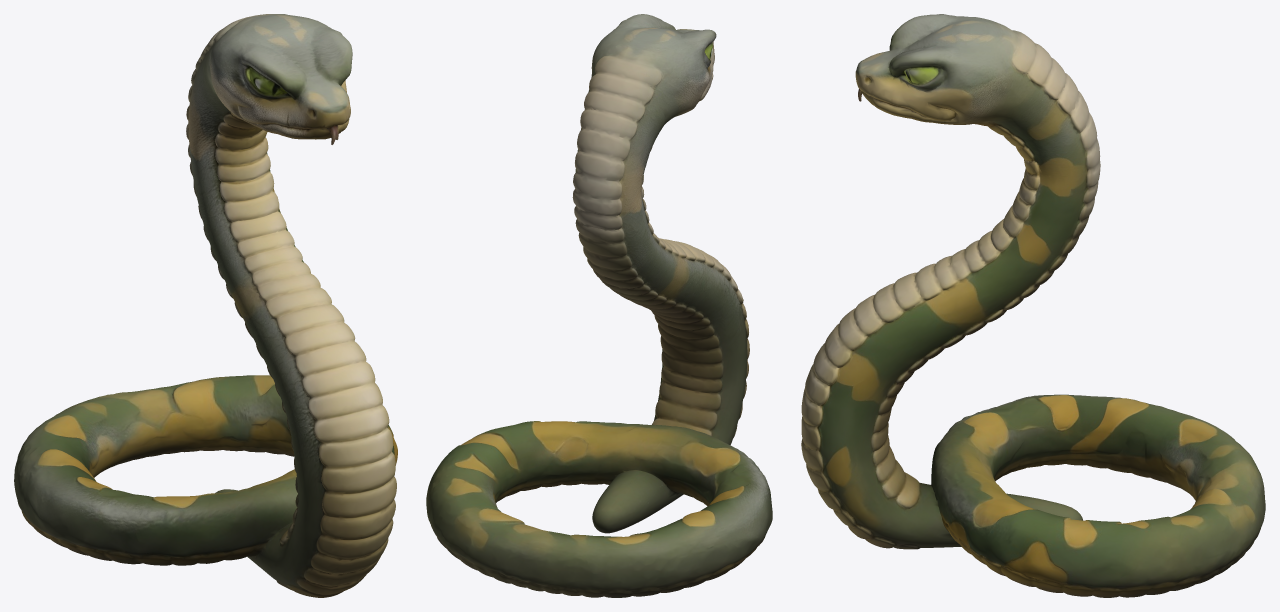
File: ular_melar.glb
3 renders of one model, left to right at view 1: azimuth 30°, elevation 25°; view 2: azimuth 150°, elevation 25°; view 3: azimuth 270°, elevation 25°, orthographic. The views are drawn at different scales.
Parts seen in each view (by area): view 1: tripo_node_fd1cbbf4-af72-4767-ad30-711315003b75; view 2: tripo_node_fd1cbbf4-af72-4767-ad30-711315003b75; view 3: tripo_node_fd1cbbf4-af72-4767-ad30-711315003b75.
Part boxes in pixels (box(x1,y1,x2,y2)): tripo_node_fd1cbbf4-af72-4767-ad30-711315003b75: box(14, 14, 397, 597); tripo_node_fd1cbbf4-af72-4767-ad30-711315003b75: box(426, 14, 772, 597); tripo_node_fd1cbbf4-af72-4767-ad30-711315003b75: box(801, 14, 1265, 597).
Bounding box in the file's own units: 0.6816 × 1 × 0.8233.
Materials: 1 (1 with a texture image).
